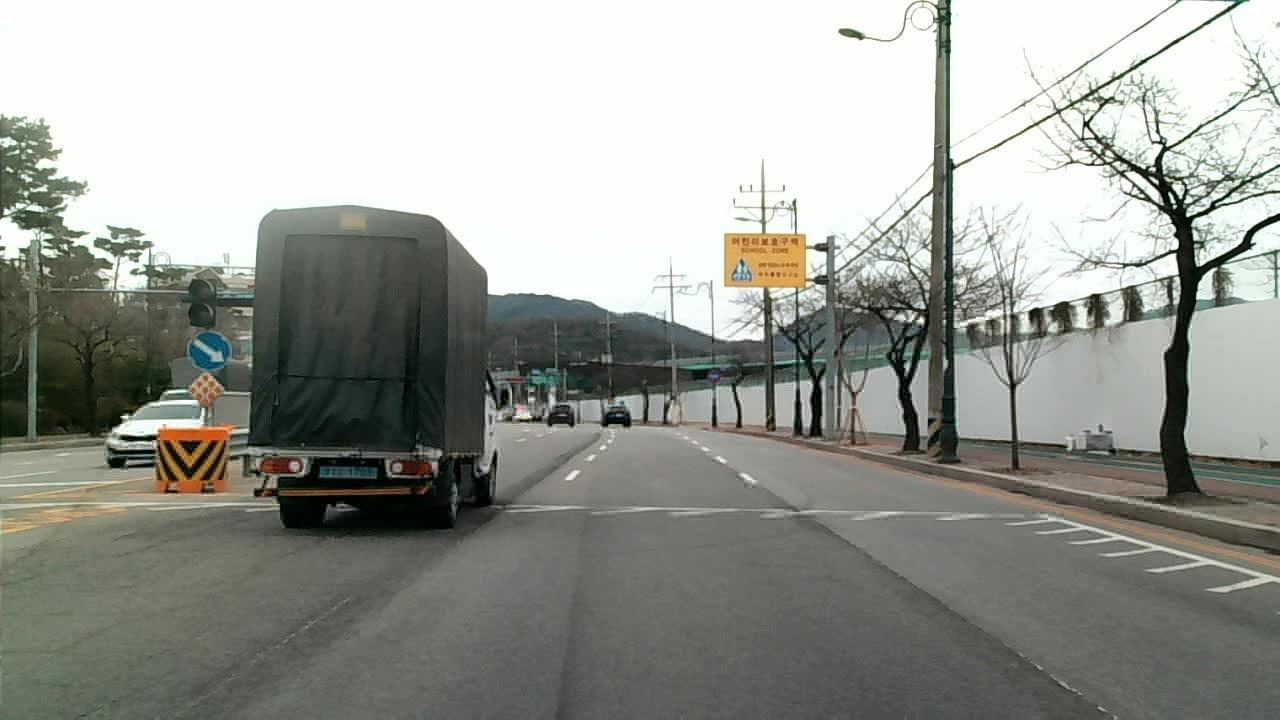vcrack: (941, 604, 1098, 706), (806, 521, 932, 593), (459, 508, 502, 544)
